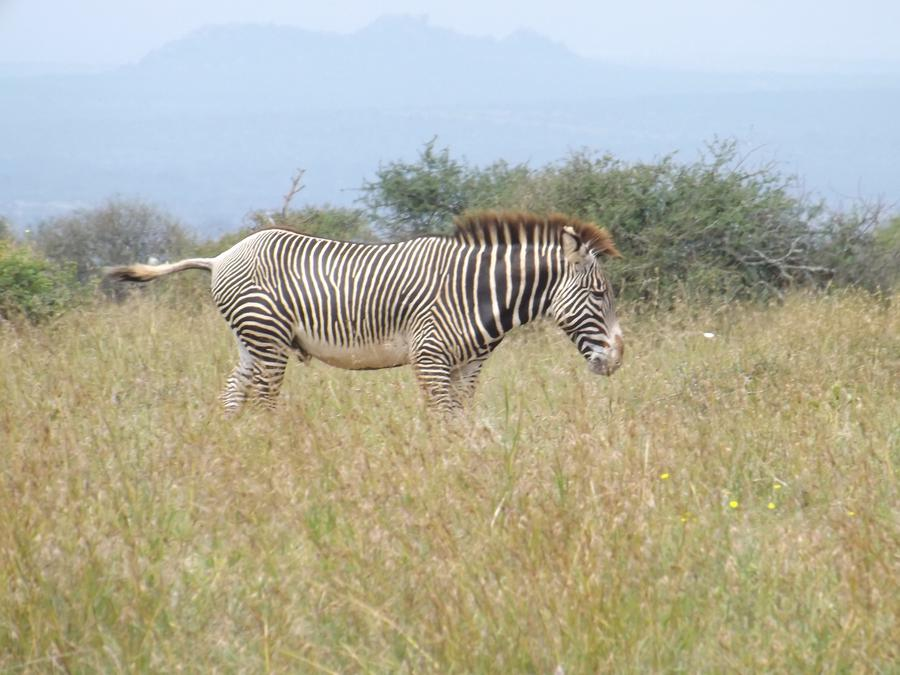zebra_grevys: (218, 228, 471, 369)
